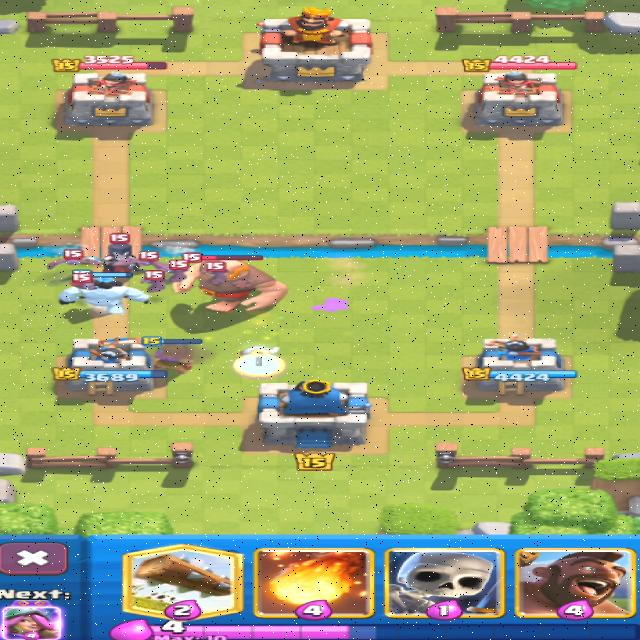Enemy-Bat: (47, 249, 103, 269), (115, 251, 169, 271), (154, 259, 188, 283), (143, 269, 163, 292), (206, 263, 227, 284), (72, 270, 93, 289)
Enemy-Giant: (175, 260, 287, 312)
Enemy-KingTower: (259, 6, 371, 81)
Enemy-NightWitch: (101, 243, 132, 270)
Enemy-PrincessTower: (475, 71, 561, 131), (65, 74, 152, 126)
Player-IceGolem: (60, 279, 148, 314)
Player-KingTower: (258, 380, 370, 448)
Player-Musketeer: (154, 343, 193, 374)
Player-PrincessTower: (53, 338, 165, 398), (475, 336, 575, 394)
